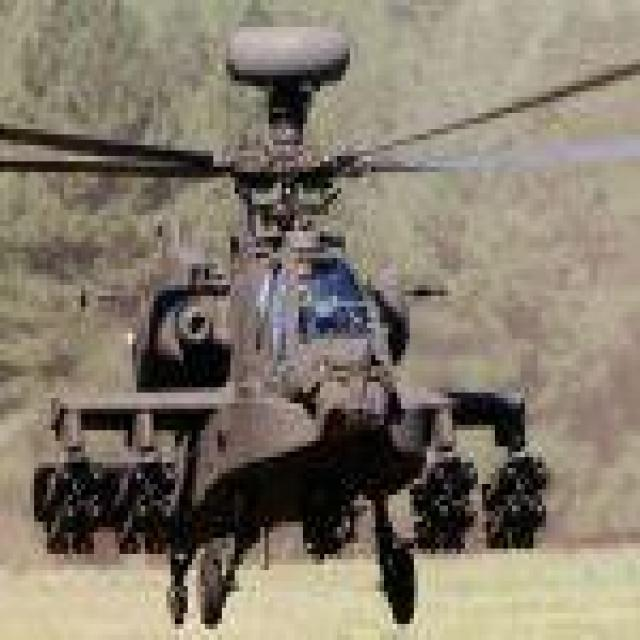MIL_HELO: (6, 19, 640, 625)
